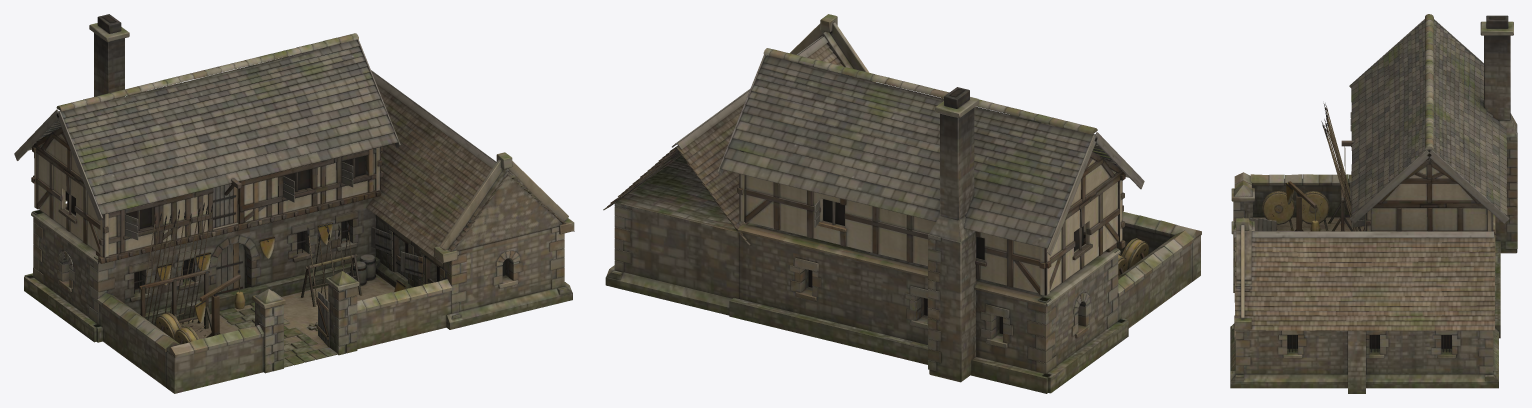
File: barracks.glb
3 renders of one model, left to right at view 1: azimuth 30°, elevation 25°; view 2: azimuth 150°, elevation 25°; view 3: azimuth 270°, elevation 25°, orthographic. The views are drawn at different scales.
Parts seen in each view (by area): view 1: barracks_LOD0; view 2: barracks_LOD0; view 3: barracks_LOD0.
Part boxes in pixels (x1,y1,x2,y2): barracks_LOD0: (14,14,574,393); barracks_LOD0: (603,14,1201,393); barracks_LOD0: (1230,14,1517,393).
Size of what is drawn, in the model's own units: 17.19 by 10.01 by 11.21.
1 material, 1 textured.
